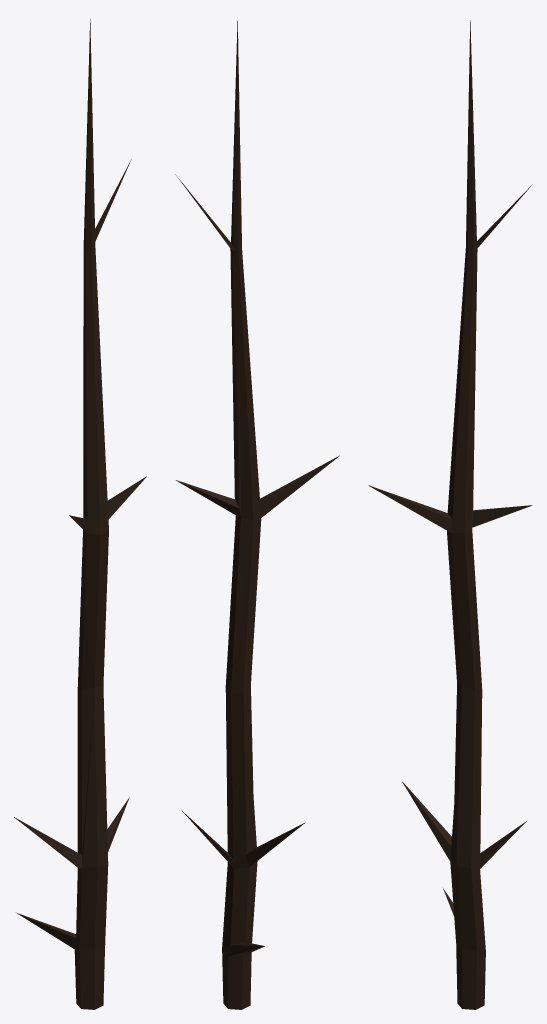
The model's file is tree_1.FBX.
3 renders of one model, left to right at view 1: azimuth 30°, elevation 25°; view 2: azimuth 150°, elevation 25°; view 3: azimuth 330°, elevation 25°, orthographic.
Visible parts, largest first — view 1: tree_1; view 2: tree_1; view 3: tree_1.
Part boxes in pixels (left/top/right/bottom): tree_1: left=14, top=19, right=146, bottom=1009; tree_1: left=175, top=21, right=339, bottom=1009; tree_1: left=368, top=20, right=532, bottom=1009.
Size of the model in its own units: 91.69 by 661 by 77.54.
